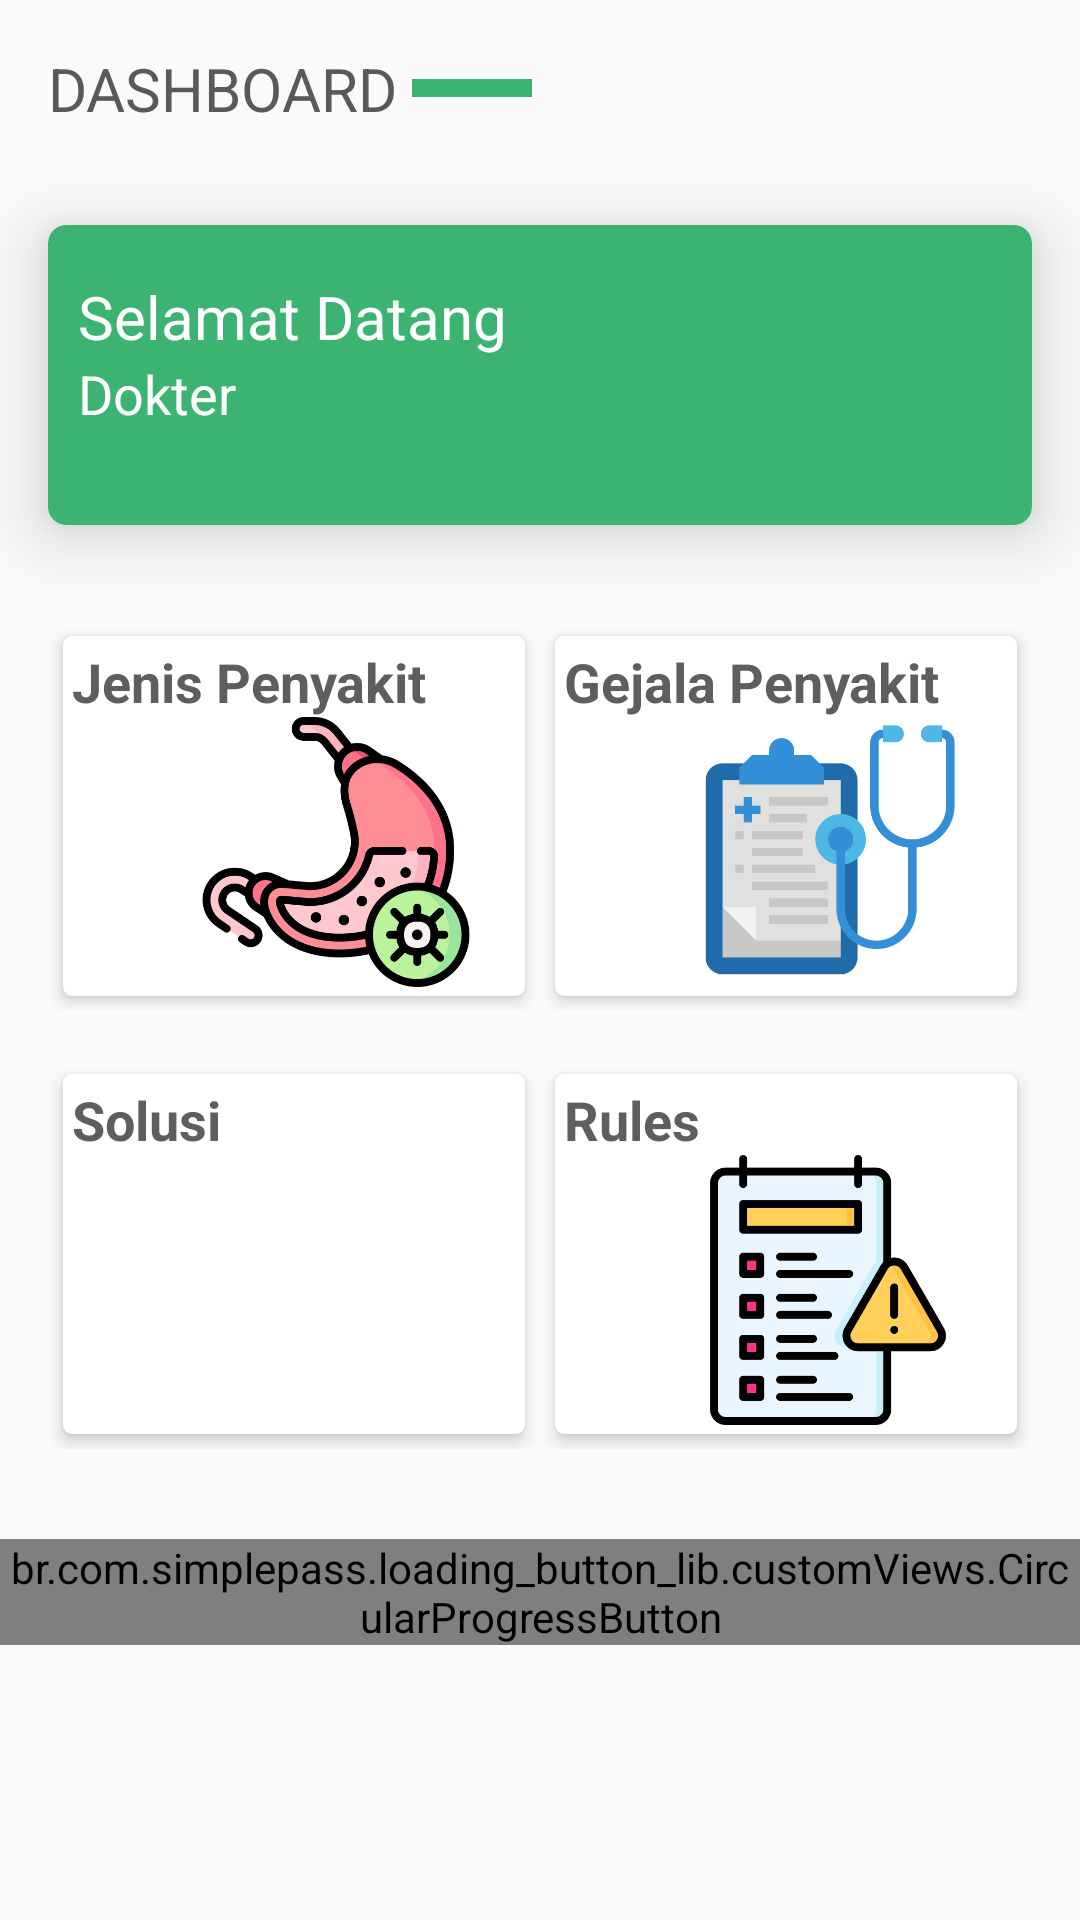

Named icons in this screenshot (1080 × 1920) and their centers, (x,y):
checkup: (830,850)
stomach: (336,852)
